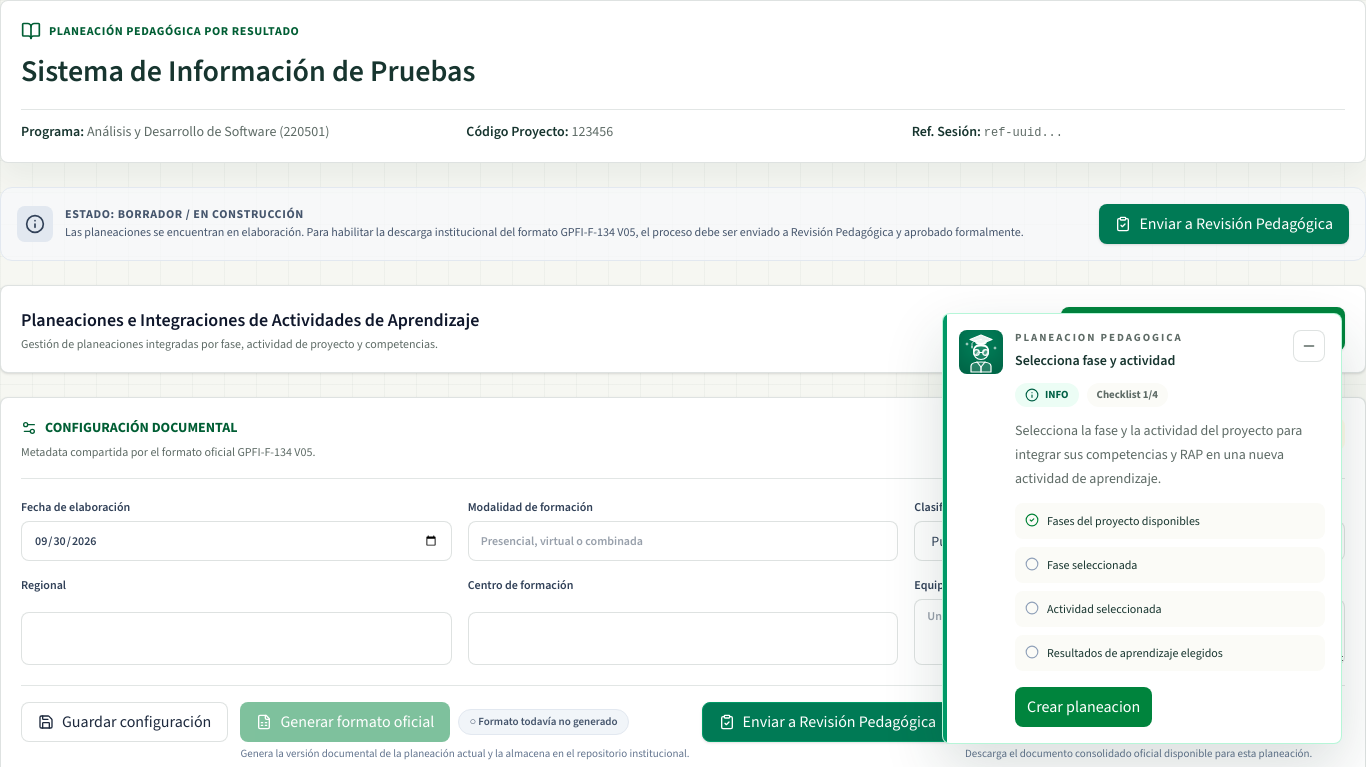
Test: Official Format Sync & Assisted Review Submission Flow › 4. displays friendly institutional error on MinIO failure and does NOT submit planning for review
Click the button "Enviar a Revisión Pedagógica" in the row of "Estado: Borrador / En Construcción" at (1224, 224), box top-left (1099, 204), bottom-right (1349, 244)
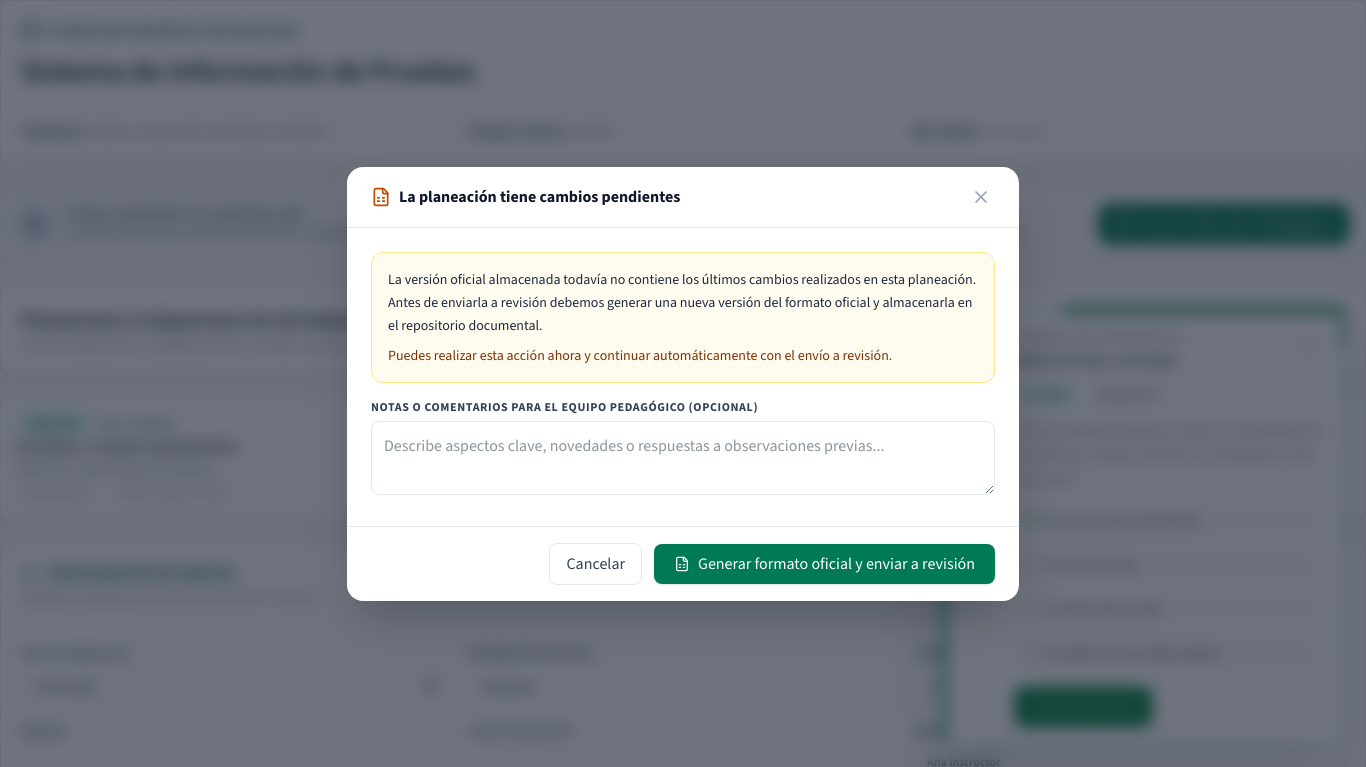
Click the button "Generar formato oficial y enviar a revisión" at (824, 564), box top-left (654, 544), bottom-right (995, 584)
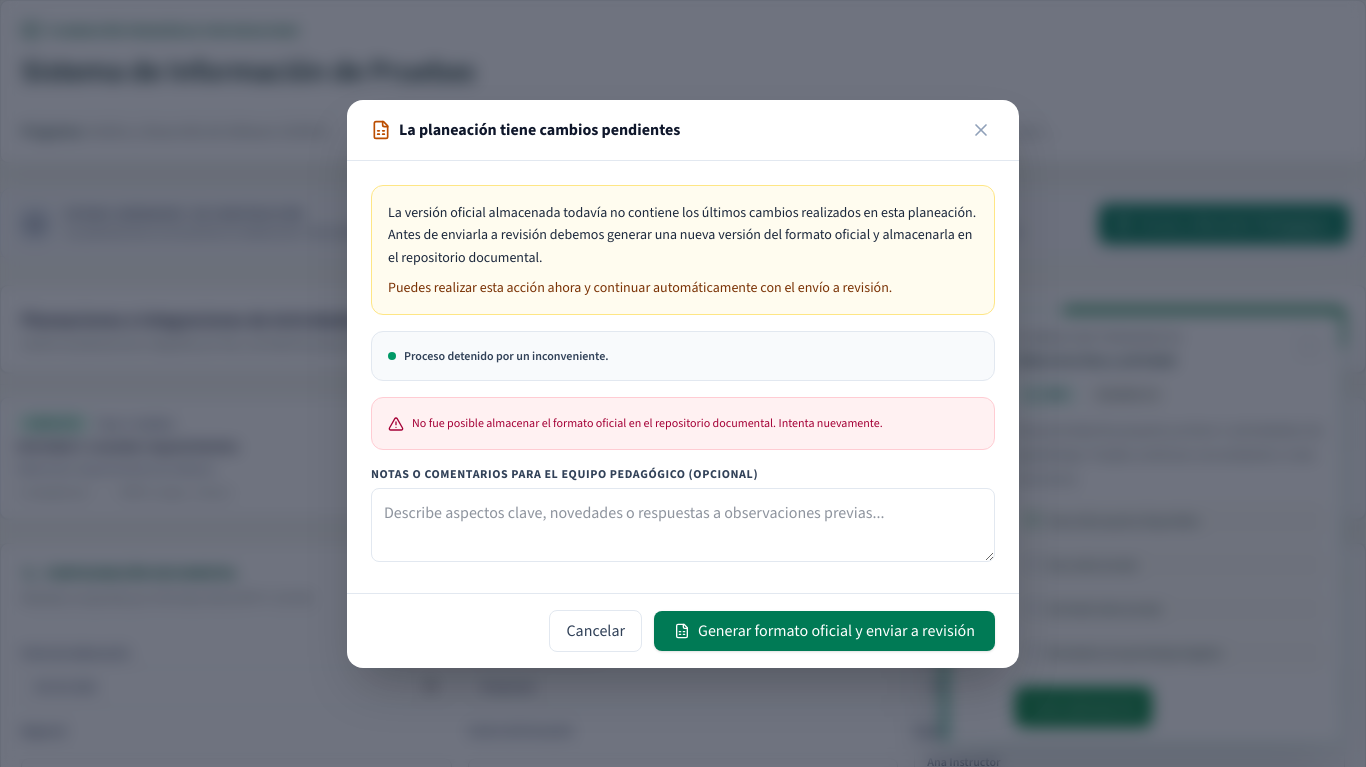
Expected: the text "No fue posible almacenar el formato oficial en el repositorio documental. Intenta nuevamente." is shown, top-left (412, 415), bottom-right (883, 431)
